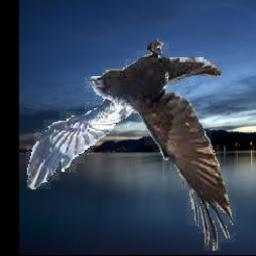Crow: (26, 37, 236, 252)
